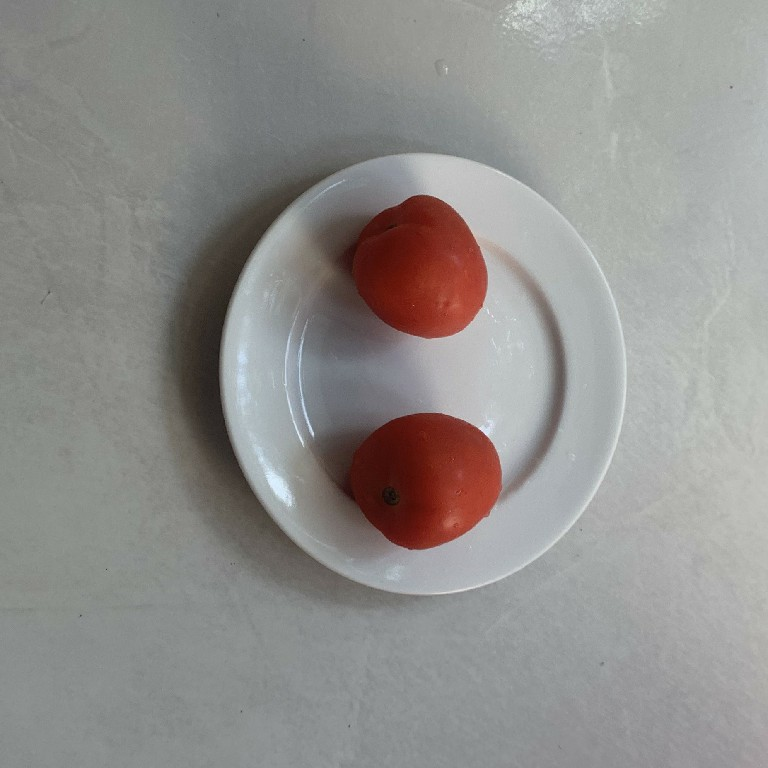OK: (343, 190, 494, 347), (346, 410, 505, 552)
